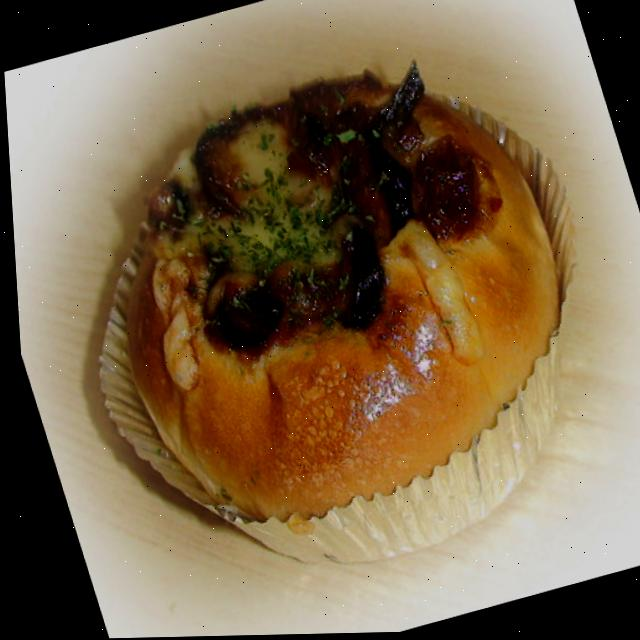三明治: (1, 8, 640, 640)
